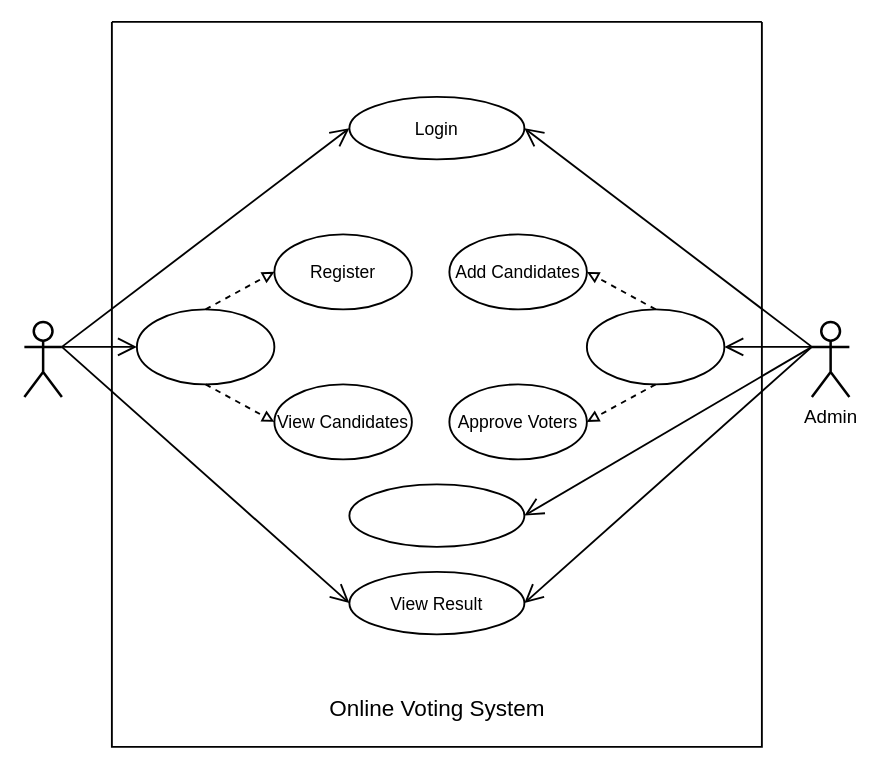
Some shapes in this 879 by 770 pixel diagram are drawn without their labels. Here are the shapes that lost their labels. From the top down, the centre of each, then its label:
At (42,359): "Voter".
At (205,346): "Cast Vote".
At (655,346): "Create Election".
At (436,515): "End Election".
